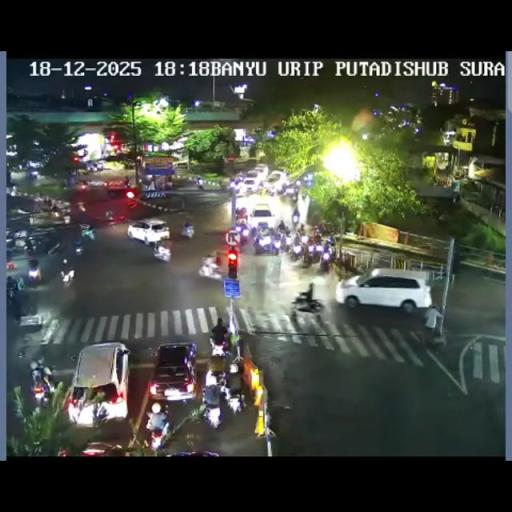Car: (66, 342, 130, 426), (336, 269, 433, 312), (4, 230, 67, 286), (148, 342, 198, 402), (126, 218, 170, 244), (249, 202, 275, 230), (77, 441, 126, 455), (265, 170, 289, 192), (106, 178, 134, 196), (241, 176, 263, 194), (252, 164, 270, 178)
Motorcycle: (144, 406, 170, 450), (30, 364, 54, 407), (6, 276, 28, 318), (293, 282, 321, 312), (198, 255, 224, 281), (225, 386, 245, 417), (254, 230, 278, 254), (208, 336, 230, 362), (204, 366, 226, 392), (428, 322, 447, 352), (90, 400, 110, 426), (204, 402, 222, 428), (232, 222, 250, 244), (302, 242, 320, 264), (60, 260, 74, 286), (27, 263, 42, 285), (318, 249, 332, 271), (153, 245, 171, 262), (290, 240, 304, 260), (180, 220, 194, 238), (278, 231, 290, 252), (82, 227, 96, 241), (46, 242, 62, 254), (24, 237, 36, 252), (6, 184, 18, 198), (324, 234, 335, 248), (311, 229, 322, 243), (322, 222, 334, 234), (74, 242, 84, 256), (221, 177, 230, 192), (236, 211, 247, 223), (296, 223, 306, 236), (229, 360, 238, 374), (452, 190, 461, 204), (77, 180, 88, 191), (26, 170, 38, 180), (276, 220, 286, 232), (290, 188, 298, 202), (250, 224, 258, 238), (164, 178, 173, 190), (76, 202, 86, 212), (104, 210, 114, 220), (95, 160, 105, 170), (86, 162, 95, 173), (260, 224, 269, 235), (6, 246, 12, 262), (196, 179, 204, 190), (301, 233, 309, 244), (62, 214, 70, 224), (295, 180, 301, 188)
